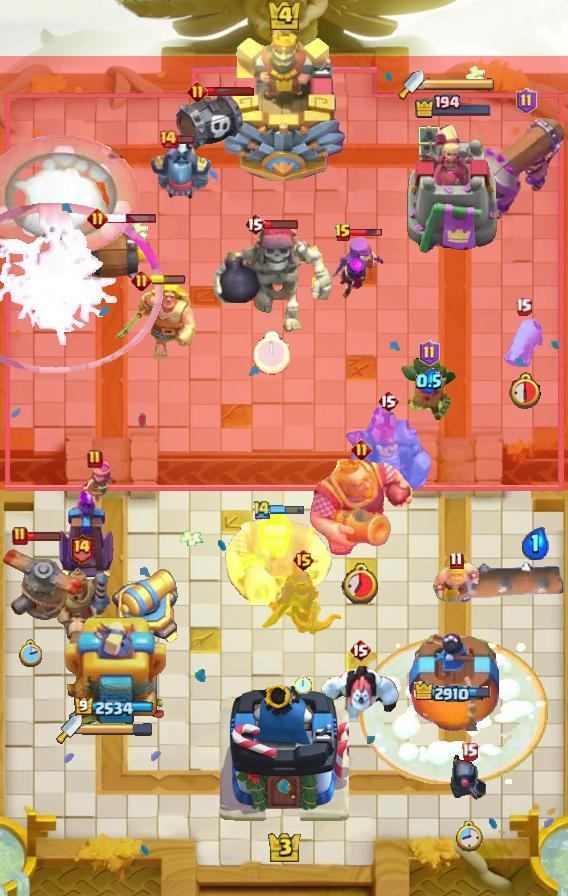archer: (432, 561, 480, 605)
bar: (406, 122, 500, 256), (62, 611, 166, 731)
barbarian-evolution: (0, 202, 163, 374)
barbarian-hut: (260, 571, 346, 647)
battle-ram: (448, 751, 490, 805)
cannon: (72, 461, 118, 507)
cannoneer-tower: (343, 403, 433, 493)
dark-prince: (0, 535, 90, 625)
electro-giant: (210, 221, 334, 333)
electro-spirit: (521, 528, 549, 560), (416, 368, 442, 394)
elixir: (341, 562, 381, 604), (253, 331, 291, 375), (506, 371, 541, 409), (455, 821, 483, 853), (18, 639, 42, 667), (295, 675, 312, 693)
elixir-golem-small: (149, 140, 213, 202)
emote: (105, 213, 157, 224), (205, 87, 255, 98), (263, 218, 299, 230), (270, 504, 305, 516), (26, 530, 62, 541), (150, 275, 186, 285), (349, 228, 383, 238), (177, 134, 196, 146)
furnace: (460, 114, 568, 224)
giant: (501, 315, 545, 371)
giant-skeleton: (306, 456, 418, 558), (223, 511, 333, 605)
goblin-barrel: (400, 357, 458, 425)
goblin-hut: (112, 279, 198, 359)
ice-spirit-evolution-symbol: (56, 487, 116, 579)
king-tower: (220, 21, 348, 181), (219, 678, 349, 826)
king-tower-bar: (424, 77, 496, 91), (82, 722, 154, 736)
minion: (446, 560, 568, 604)
phoenix-big: (360, 636, 548, 784)
queen-tower: (407, 633, 499, 731)
rage: (320, 666, 400, 720)
ram-rider: (52, 567, 110, 649)
rascal-girl: (330, 236, 386, 302)
royal-recruit: (105, 568, 181, 648)
royal-recruit-evolution: (172, 90, 246, 154)
selected: (414, 94, 494, 119), (414, 681, 494, 705), (74, 698, 154, 719)
text: (69, 532, 94, 563), (292, 548, 315, 572), (515, 88, 536, 114), (419, 340, 440, 366), (244, 212, 266, 236), (377, 389, 399, 413), (349, 638, 371, 662), (131, 269, 153, 291), (351, 439, 373, 461), (188, 82, 209, 103), (87, 208, 108, 229), (252, 499, 272, 520), (158, 129, 178, 149), (334, 223, 352, 243), (462, 743, 479, 762), (87, 449, 103, 469), (12, 526, 28, 546), (515, 297, 532, 315), (449, 551, 463, 569)
the-log: (74, 223, 154, 283)
wall-breaker: (0, 134, 139, 258)
